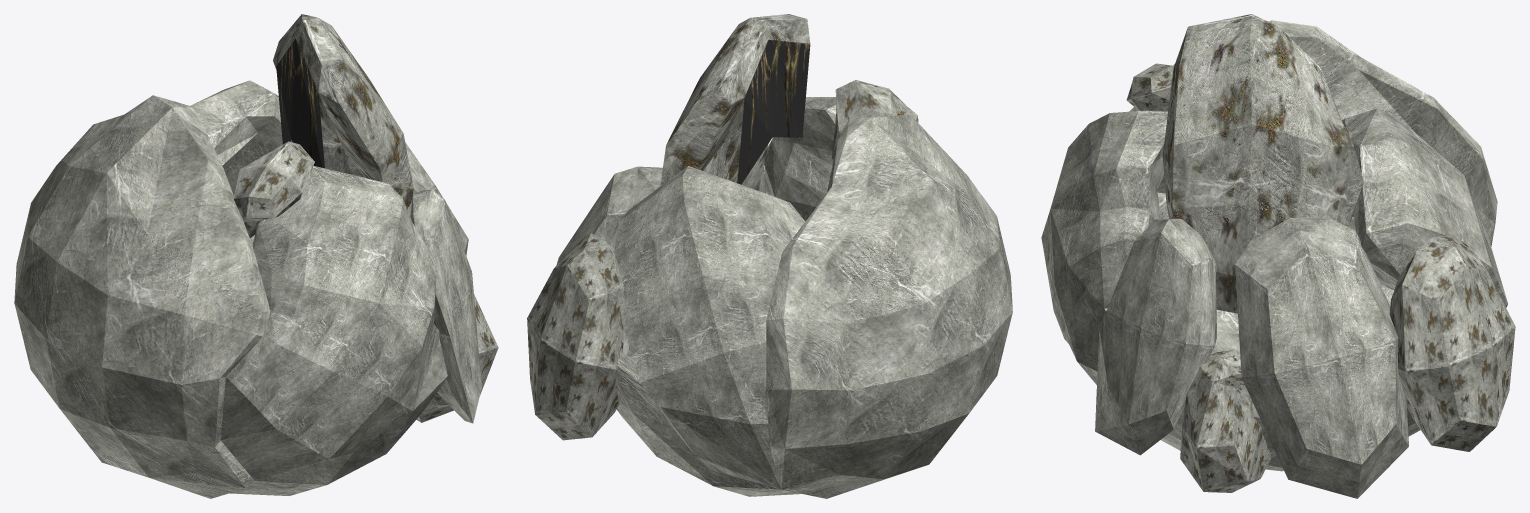
The model's file is poi_all_lair_rock_shelter_large_l0.fbx.
3 views of the same model, side by side, from view 1: azimuth 30°, elevation 25°; view 2: azimuth 150°, elevation 25°; view 3: azimuth 270°, elevation 25° (orthographic). The views are drawn at different scales.
Visible parts, largest first — view 1: mesh_node; view 2: mesh_node; view 3: mesh_node.
Boxes of the visible parts, box(x1,y1,x2,y2) form: mesh_node: box(14, 14, 498, 498); mesh_node: box(527, 14, 1012, 498); mesh_node: box(1041, 14, 1515, 498).
Size of the model in its own units: 4.49 by 4.54 by 4.24.
